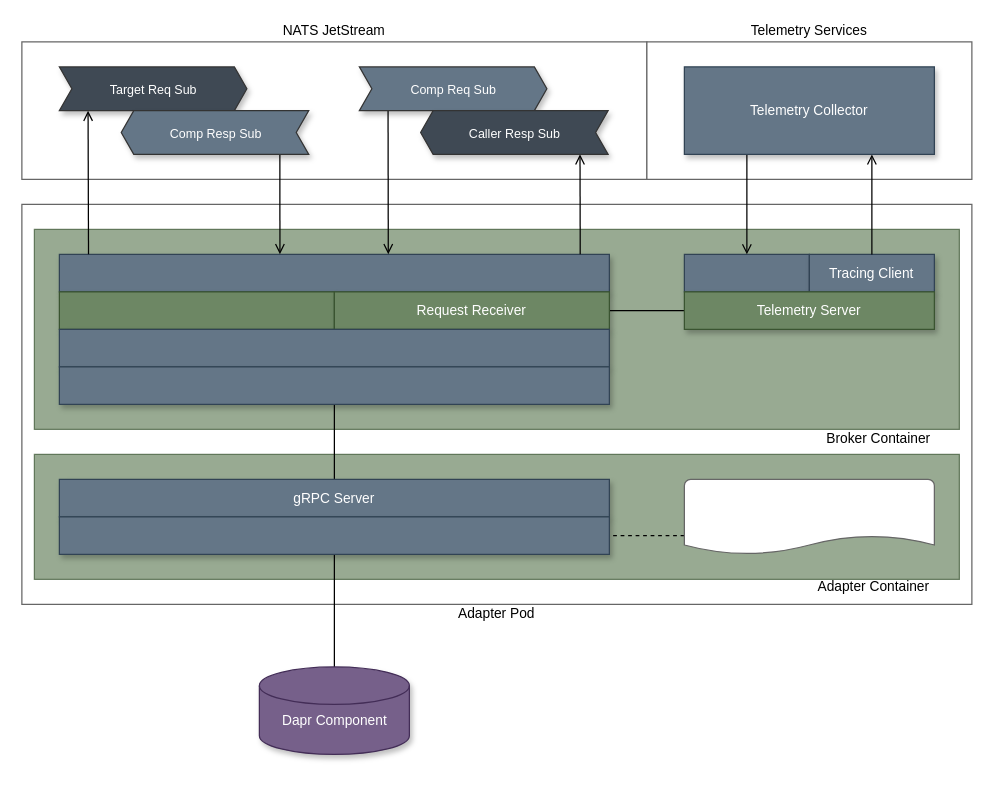
Image size: 994x785. Some labels were removed from this diagram. The shapes that lost their labels are listed below. From the top down, each one's centre as x and y in pixels, then its label:
At (335,274): "JetStream Client".
At (747,274): "HTTP Server".
At (197,312): "Request Sender".
At (335,349): "OPA".
At (335,387): "gRPC Client".
At (808,516): "Dapr Component Conf Files".
At (335,537): "Dapr".
